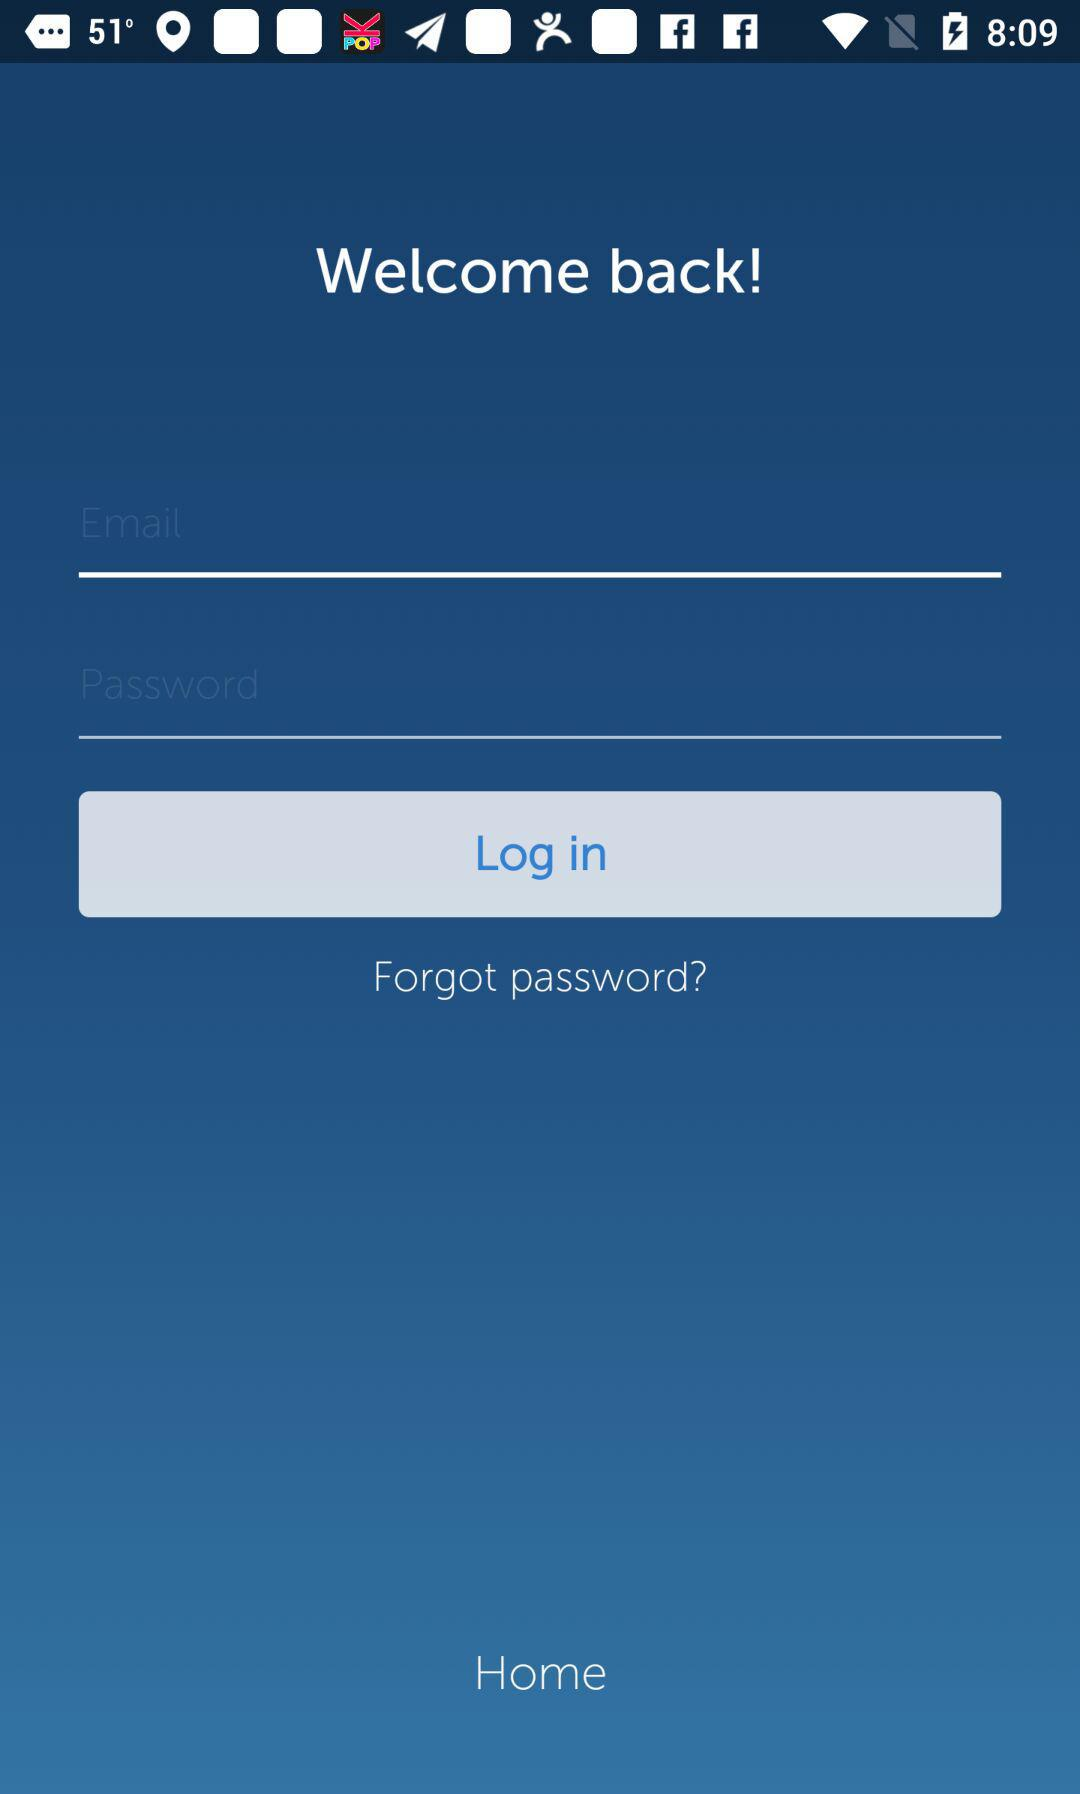EditText: (79, 506, 1002, 580), (79, 668, 1002, 741)
Text: (316, 247, 761, 296), (375, 960, 708, 1002), (82, 668, 259, 702), (477, 1656, 609, 1691), (82, 507, 183, 539)
TextButton: (79, 791, 1002, 919)
UpperTaskBar: (1, 1, 1080, 64)
